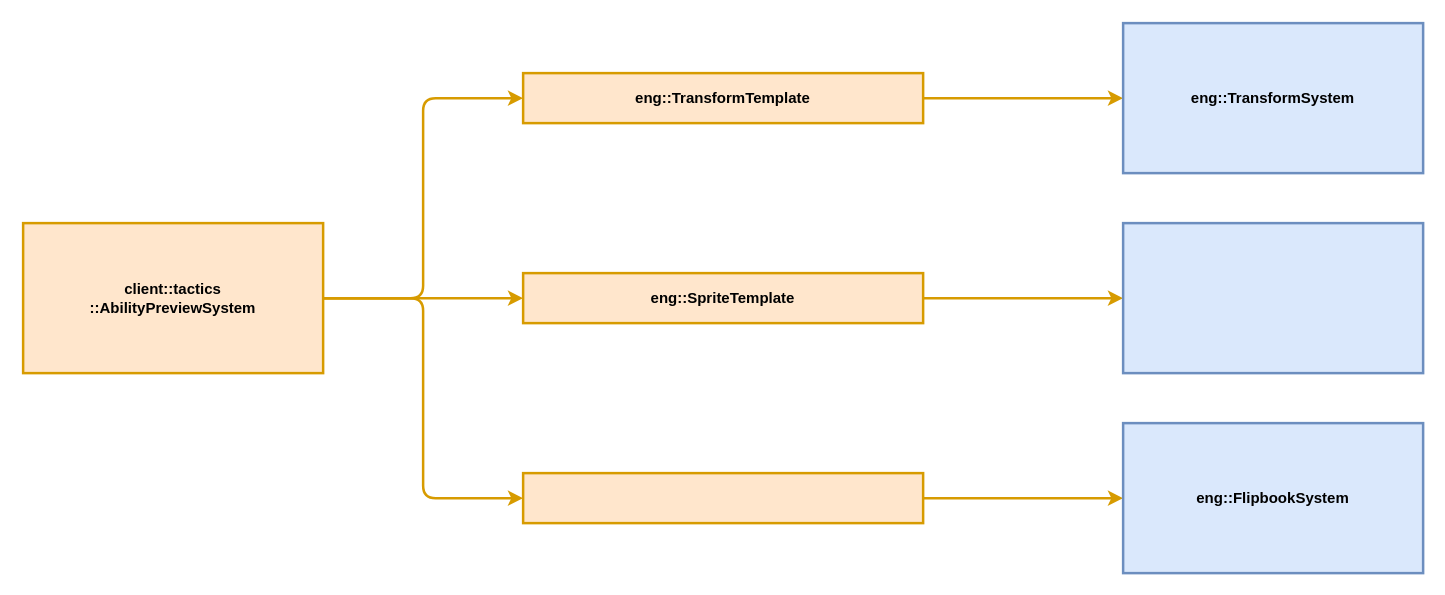
This 1445x595 diagram has some shape labels left out. Each missing label, with the box of its shape:
eng::FlipbookTemplate: (521, 471, 924, 524)
eng::SpriteSystem: (1121, 221, 1424, 374)
